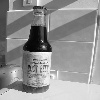beer: (20, 5, 58, 100)
